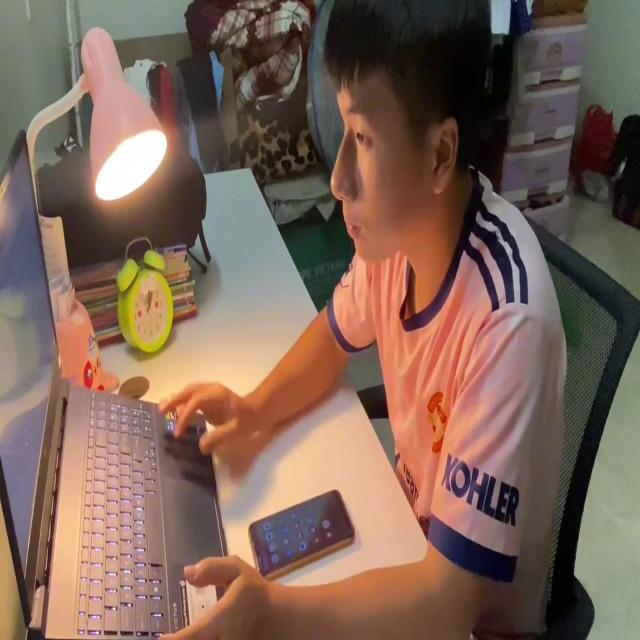laptop: (0, 122, 249, 640)
phone: (249, 482, 357, 580)
student: (164, 0, 576, 640)
